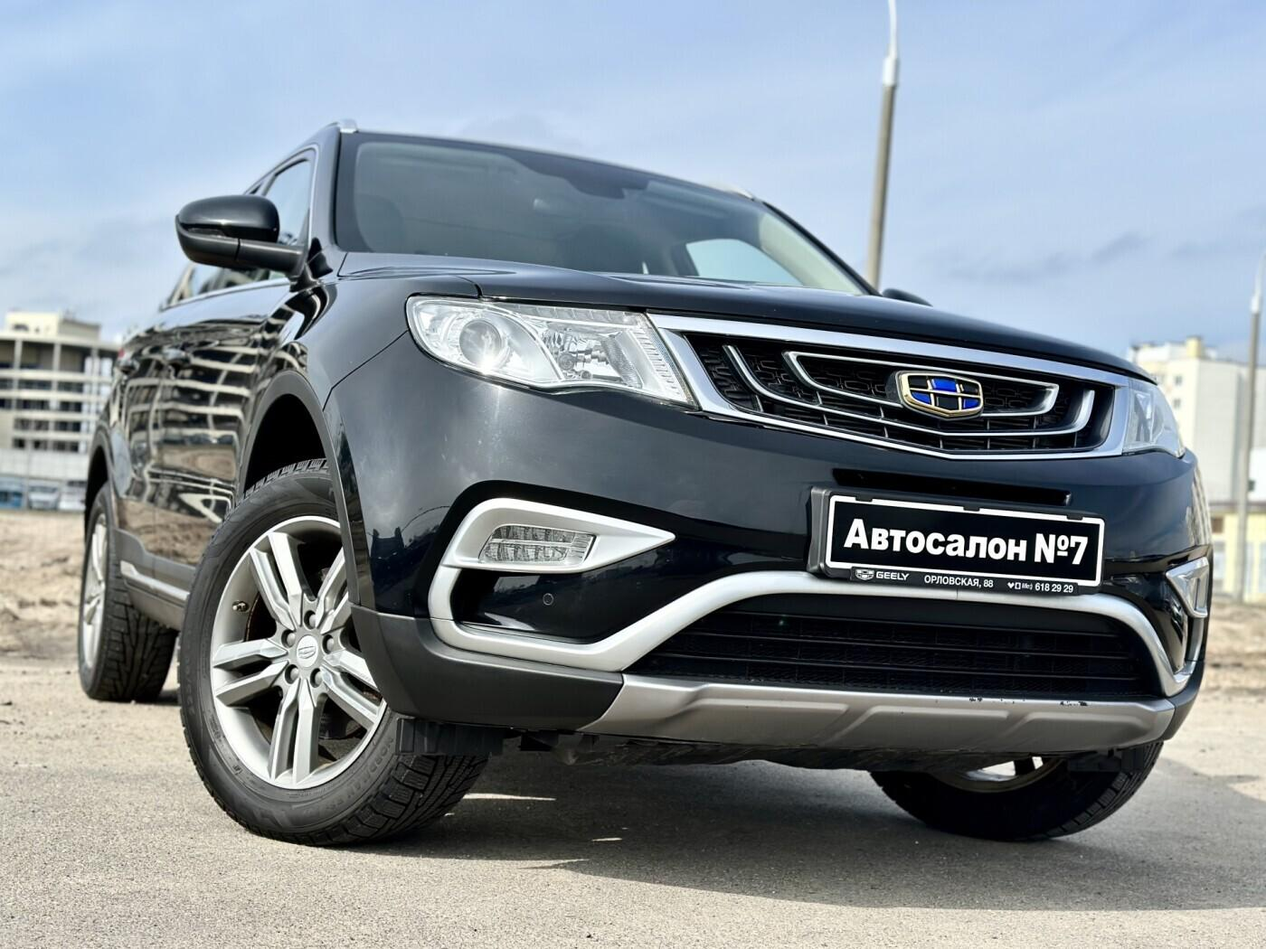Atlas_2016-2023: (71, 108, 1216, 856)
